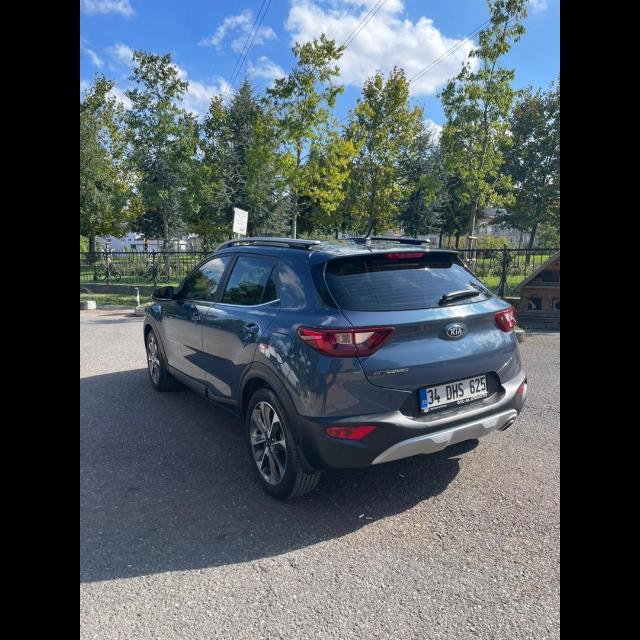Plaka: (422, 374, 488, 408)
